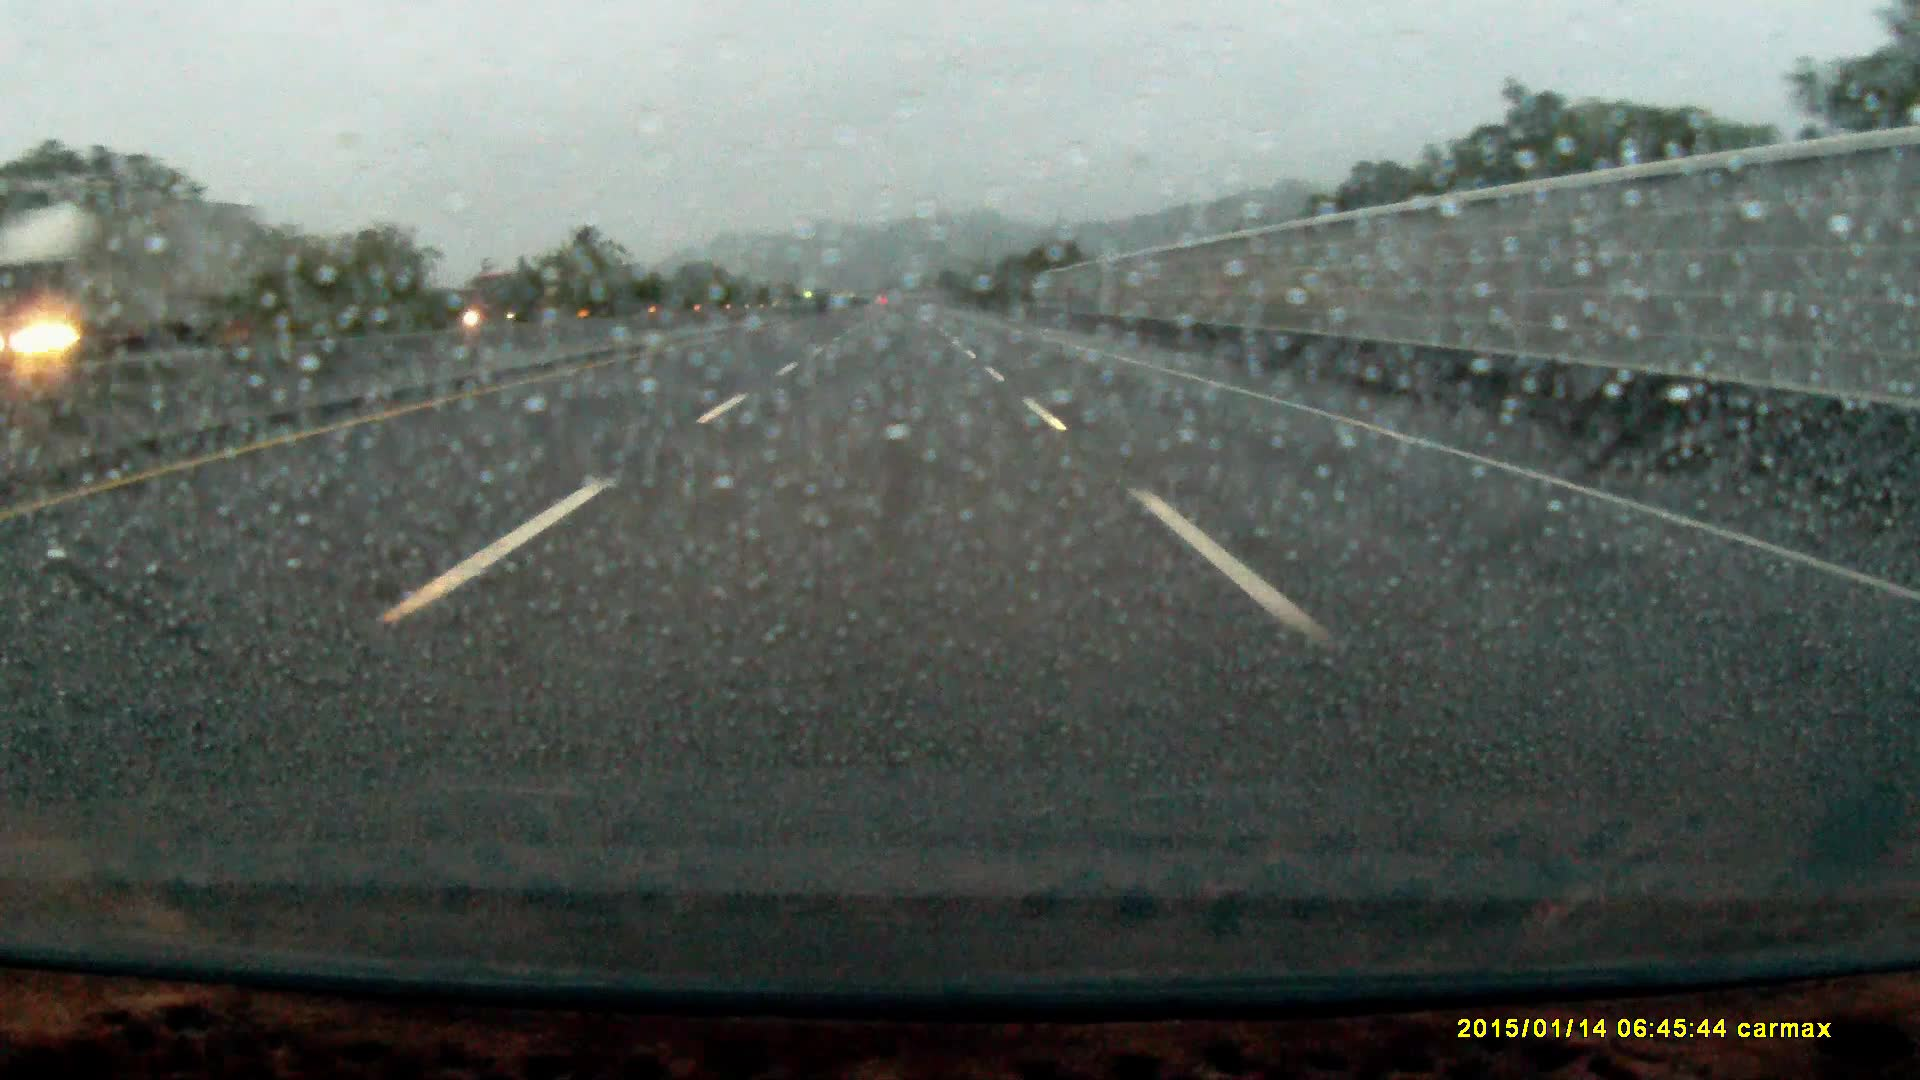vehicle: (8, 198, 262, 368), (469, 280, 563, 323)
